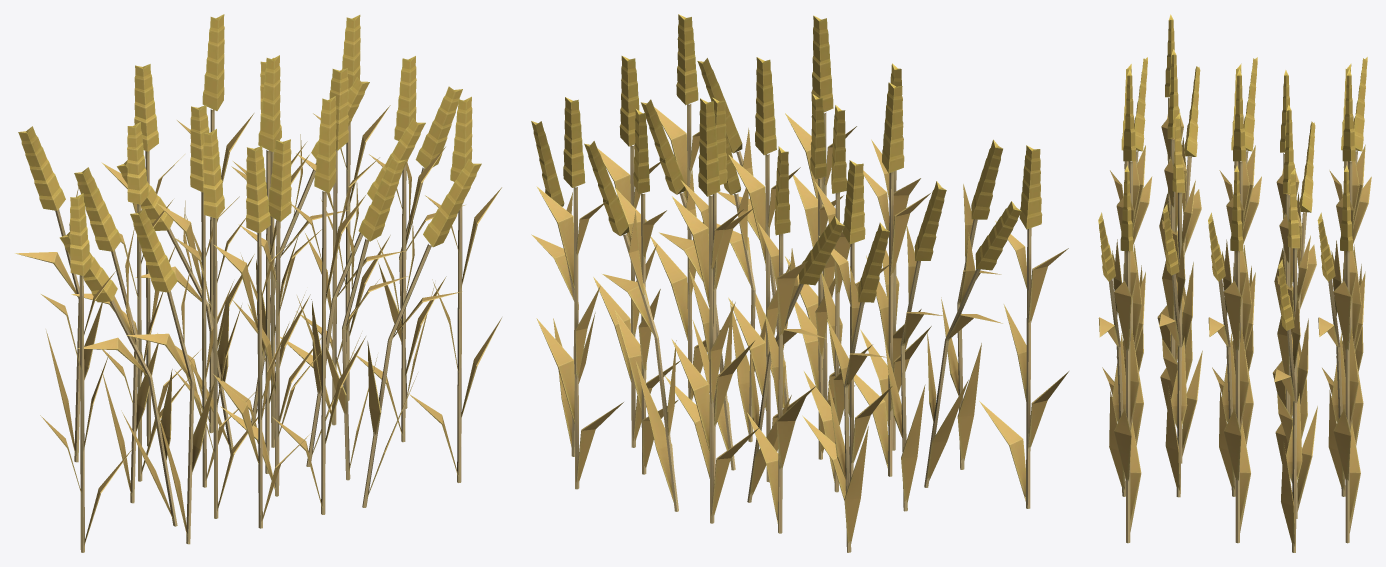
File: eWhaaKNh755.glb
3 renders of one model, left to right at view 1: azimuth 30°, elevation 25°; view 2: azimuth 150°, elevation 25°; view 3: azimuth 270°, elevation 25°, orthographic. The views are drawn at different scales.
Parts seen in each view (by area): view 1: FieldOfWheat_mesh; view 2: FieldOfWheat_mesh; view 3: FieldOfWheat_mesh.
Part boxes in pixels (x1,y1,x2,y2): FieldOfWheat_mesh: (15, 14, 501, 552); FieldOfWheat_mesh: (531, 14, 1068, 552); FieldOfWheat_mesh: (1098, 14, 1371, 552).
Bounding box in the file's own units: 1.21 × 1 × 0.6068.
Materials: 1 (1 with a texture image).
